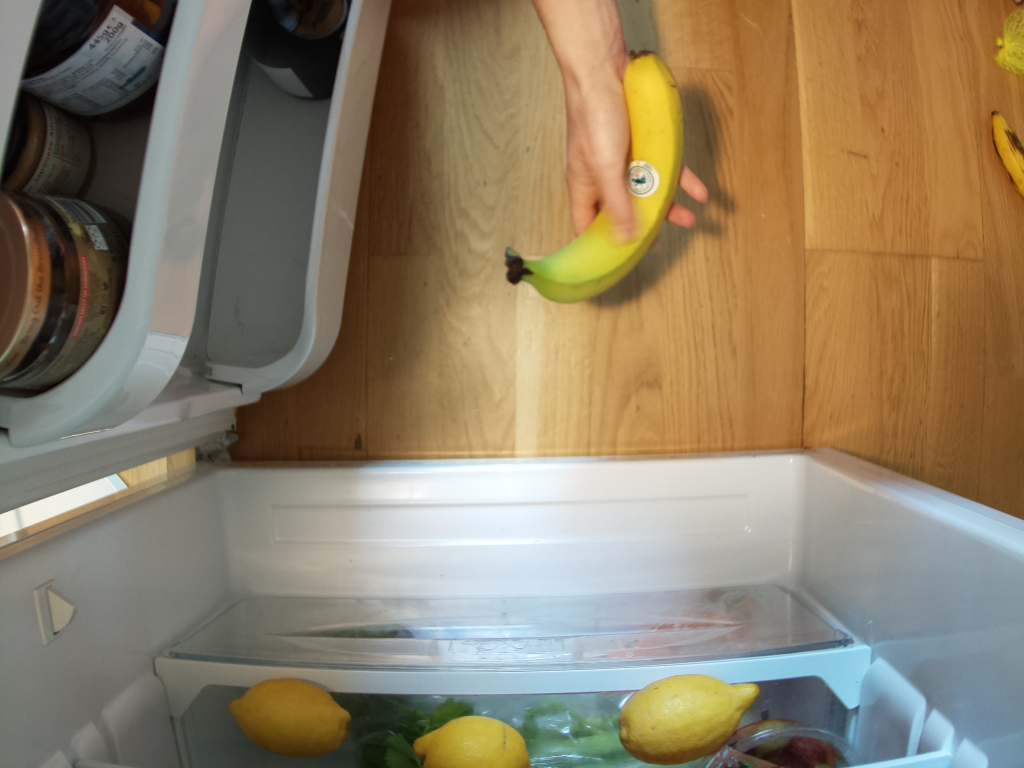banana-unripe: (503, 42, 691, 310)
